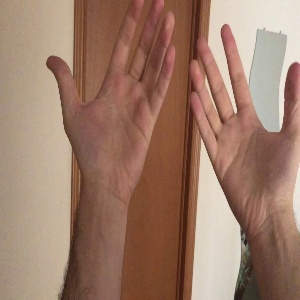hand: (46, 1, 176, 183), (189, 24, 300, 219)
